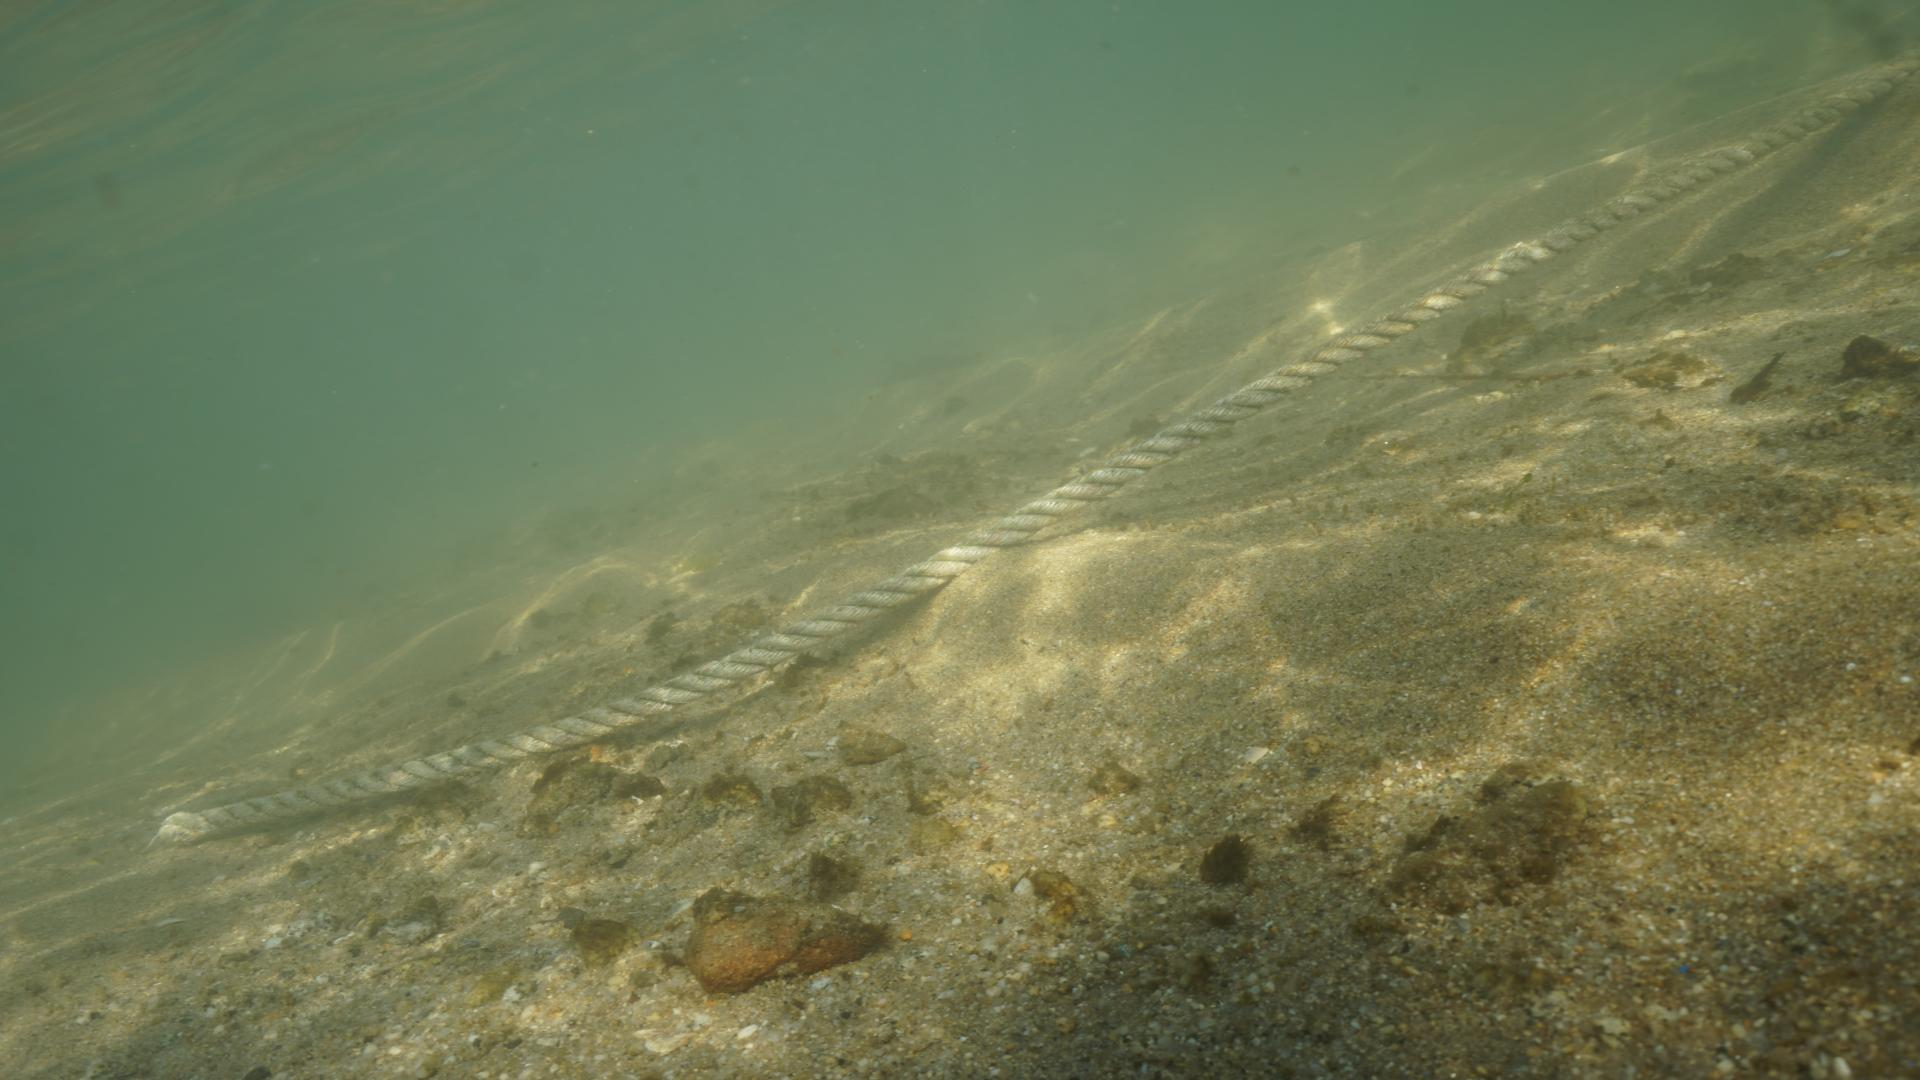rope: (154, 0, 1920, 843)
